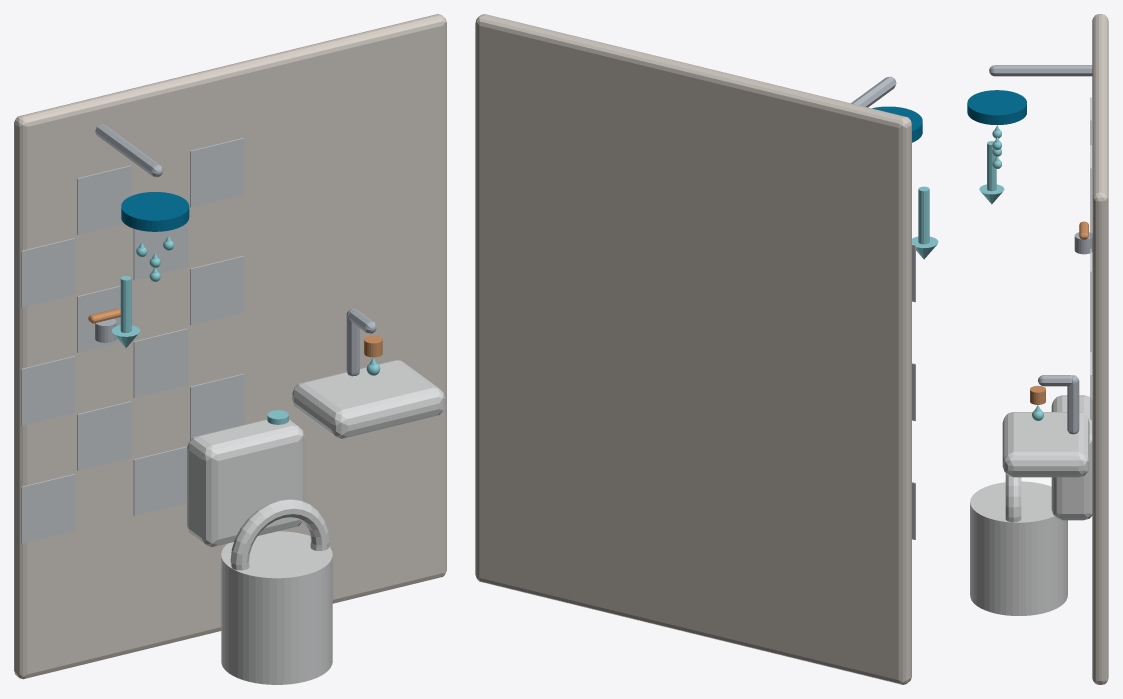
3 renders of one model, left to right at view 1: azimuth 30°, elevation 25°; view 2: azimuth 150°, elevation 25°; view 3: azimuth 270°, elevation 25°, orthographic. The views are drawn at different scales.
Visible parts, largest first — view 1: muro, deco_azulejo, part_inodoro, part_aireador, part_regadera, deco_flujo, part_valvula; view 2: muro, part_regadera, deco_flujo, deco_azulejo; view 3: part_inodoro, muro, part_aireador, part_regadera, deco_flujo, deco_azulejo, part_valvula.
Part boxes in pixels (left/top/right/bottom): muro: left=14, top=14, right=446, bottom=679; deco_azulejo: left=21, top=138, right=244, bottom=543; part_inodoro: left=187, top=410, right=332, bottom=684; part_aireador: left=292, top=308, right=445, bottom=438; part_regadera: left=95, top=124, right=189, bottom=281; deco_flujo: left=112, top=276, right=140, bottom=347; part_valvula: left=88, top=308, right=120, bottom=342; muro: left=475, top=14, right=911, bottom=684; part_regadera: left=851, top=76, right=922, bottom=142; deco_flujo: left=912, top=186, right=938, bottom=259; deco_azulejo: left=912, top=244, right=915, bottom=539; part_inodoro: left=970, top=395, right=1092, bottom=615; muro: left=1092, top=14, right=1108, bottom=684; part_aireador: left=1002, top=375, right=1089, bottom=477; part_regadera: left=967, top=65, right=1092, bottom=168; deco_flujo: left=979, top=141, right=1004, bottom=204; deco_azulejo: left=1090, top=97, right=1091, bottom=419; part_valvula: left=1074, top=221, right=1092, bottom=254.
Size of the model in its own units: 1.6 by 2 by 0.52.
